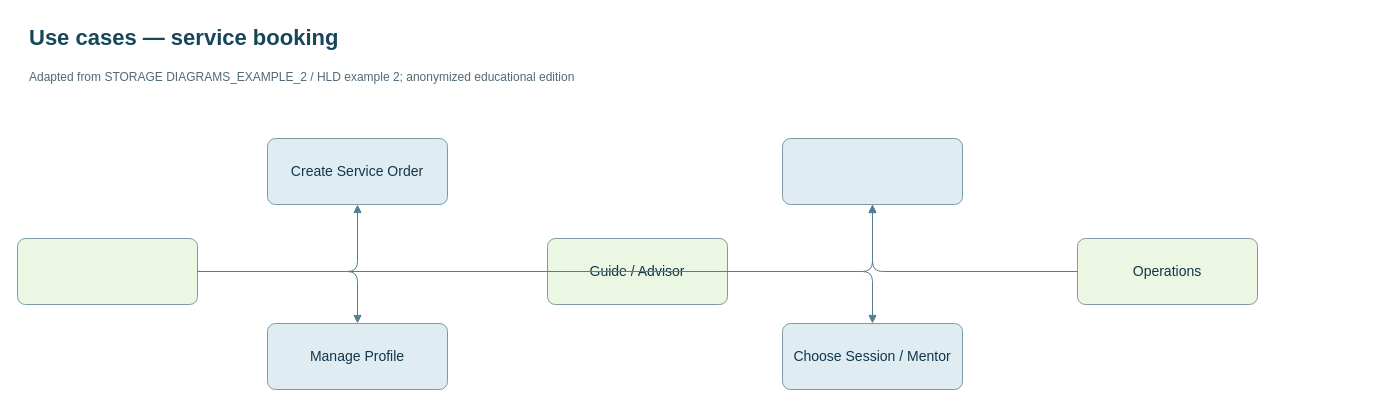
Some shapes in this 1395 by 407 pixel diagram are drawn without their labels. The shapes that lost their labels are listed below. From the top down, each one's centre as x and y in pixels, then its label:
At pixel 872 171: "Manage Session Slots".
At pixel 107 271: "Customer".
